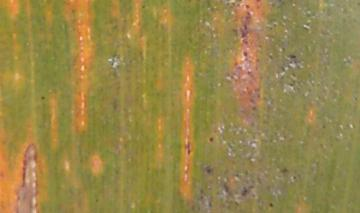tarspot: (203, 165, 213, 174), (240, 186, 249, 196), (286, 52, 297, 60), (241, 48, 249, 57), (278, 167, 289, 173), (207, 135, 215, 143), (38, 94, 47, 101), (242, 21, 248, 30), (291, 174, 298, 181), (268, 201, 274, 209), (353, 95, 359, 103), (140, 4, 146, 11), (244, 4, 249, 10)
